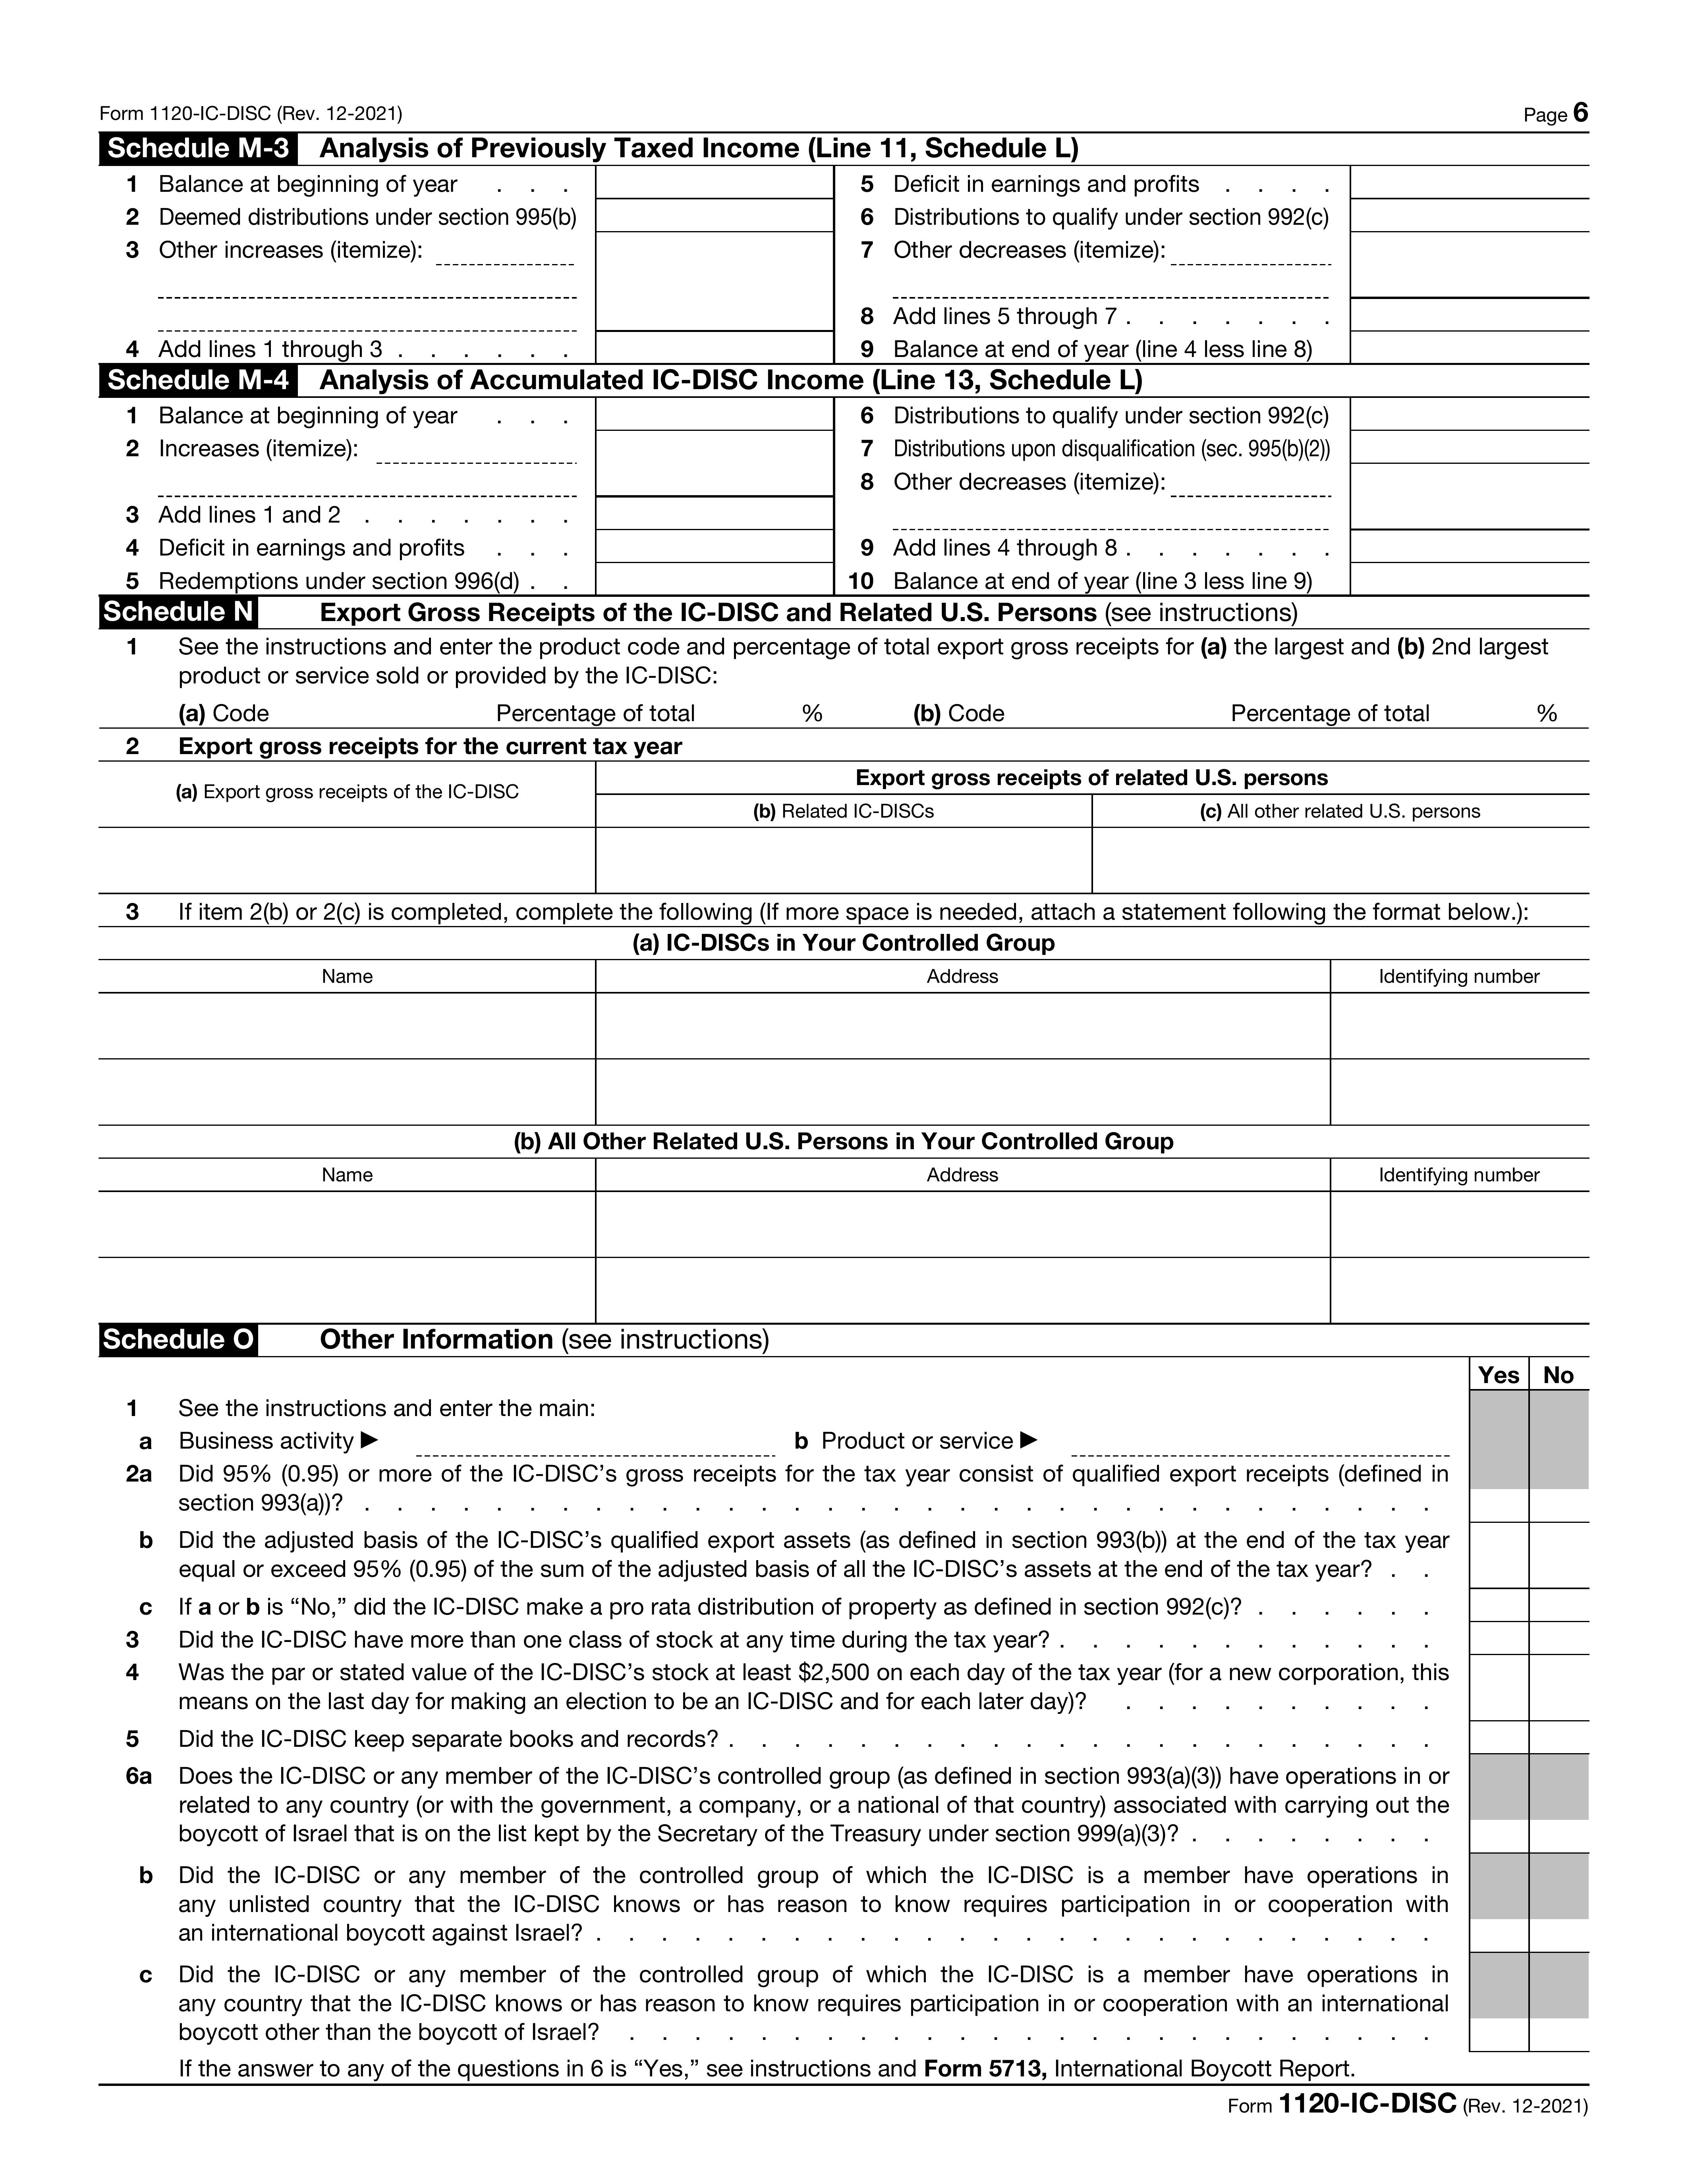table: (67, 1349, 1612, 2088), (60, 961, 1635, 1127), (60, 1159, 1631, 1326), (39, 762, 1640, 895), (846, 163, 1615, 369), (846, 399, 1631, 599), (105, 163, 846, 363), (105, 395, 842, 594)
